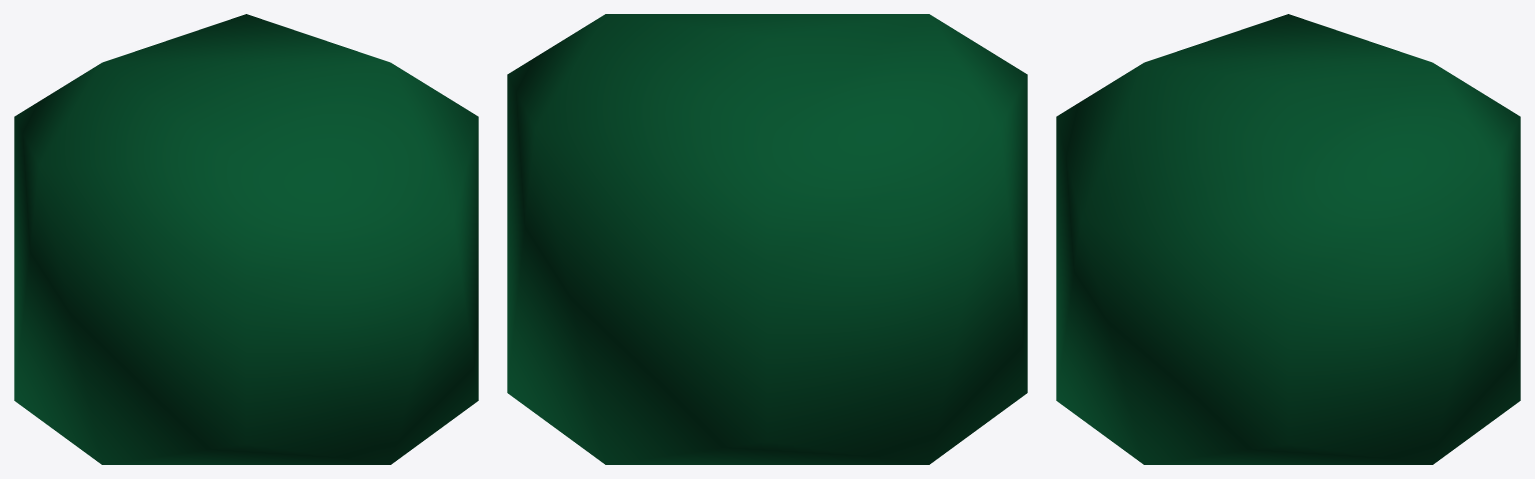
Rendered from Bush10.fbx.
The picture shows the model from 3 angles, left to right: view 1: azimuth 30°, elevation 25°; view 2: azimuth 150°, elevation 25°; view 3: azimuth 270°, elevation 25°; orthographic projection. The views are drawn at different scales.
Parts seen in each view (by area): view 1: Bush10; view 2: Bush10; view 3: Bush10.
Boxes of the visible parts, x1,y1,x2,y2 form: Bush10: (14,14,478,464); Bush10: (507,14,1027,464); Bush10: (1056,14,1520,464).
Bounding box in the file's own units: 37.37 × 26.44 × 34.21.
